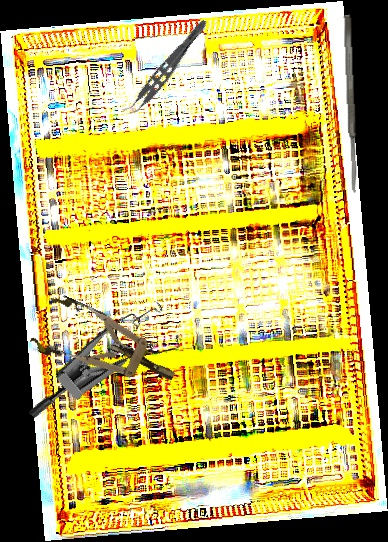Spatula Surgical: (342, 14, 359, 194)
Speculum: (26, 278, 194, 463), (27, 290, 186, 406)
Tissue Forceps: (121, 12, 210, 122)
